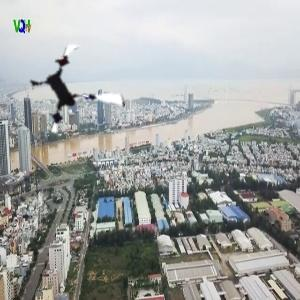drone: (24, 41, 128, 145)
